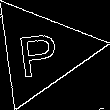P_N: (18, 24, 65, 78)
